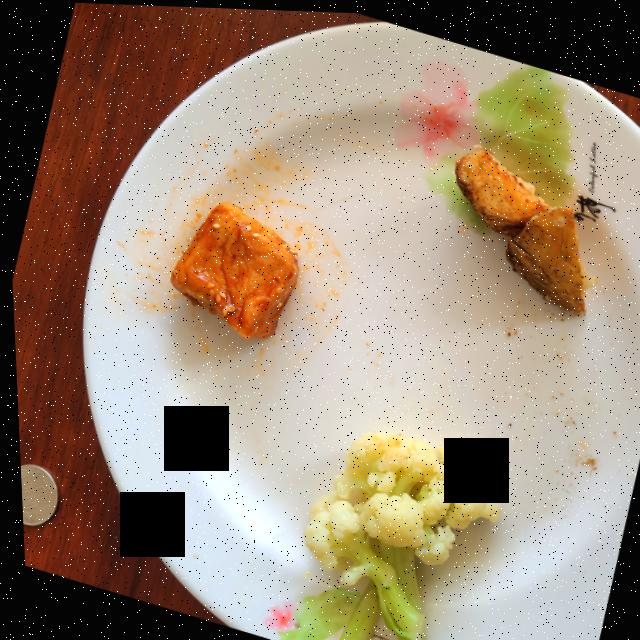coin: (16, 463, 54, 525)
creamy tofu: (167, 199, 296, 336)
fried potato: (453, 142, 594, 309)
